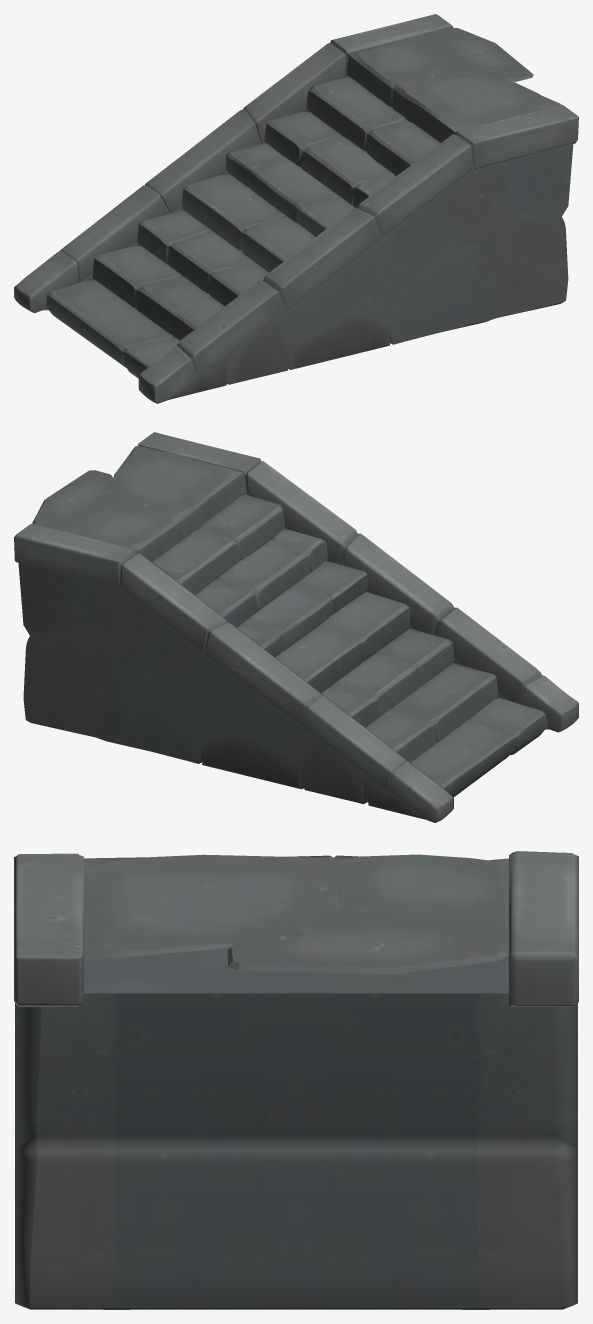
File: stairs-stone-stair.glb
3 views of the same model, one above another, from view 1: azimuth 30°, elevation 25°; view 2: azimuth 150°, elevation 25°; view 3: azimuth 270°, elevation 25° (orthographic). The views are drawn at different scales.
Bounding box in the file's own units: 37.9 × 15.76 × 21.2.
1 material, 1 textured.
